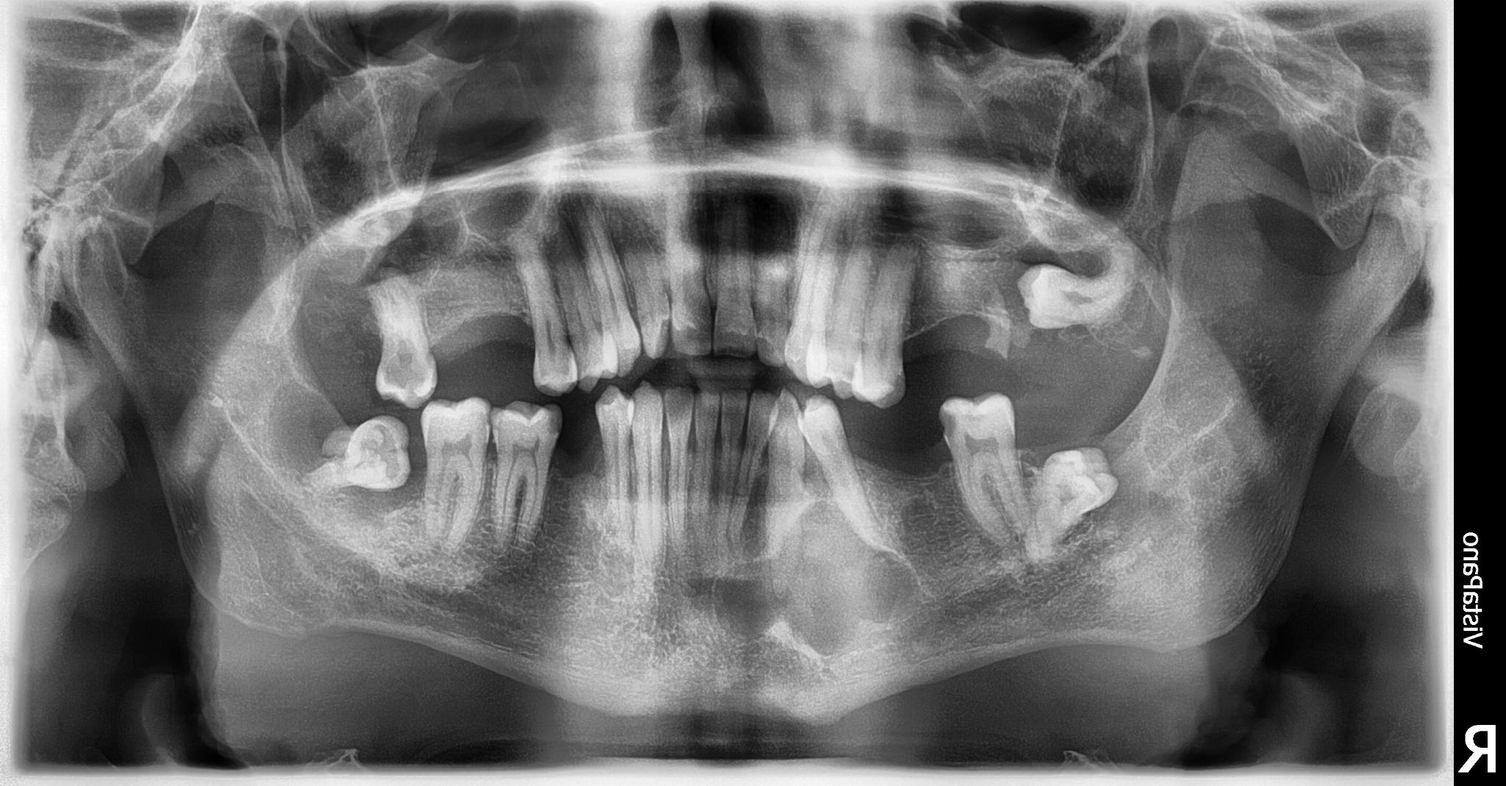Premolars: (577, 258, 1506, 700), (520, 261, 1506, 661), (494, 369, 1326, 762), (406, 295, 1207, 692), (552, 116, 1506, 378), (267, 286, 838, 702), (243, 257, 739, 646), (219, 200, 569, 612), (225, 190, 652, 486)
